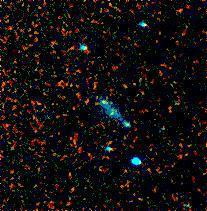star: (87, 91, 117, 121)
